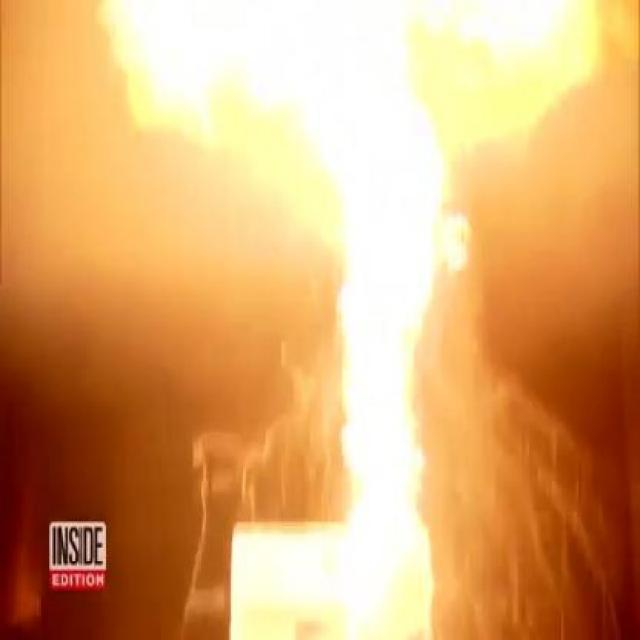fire: (304, 81, 468, 548)
